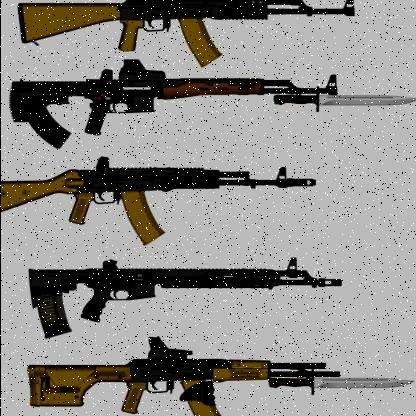rifle: (0, 147, 316, 241), (26, 253, 346, 339), (4, 66, 317, 150), (11, 0, 356, 70), (18, 347, 323, 416)
